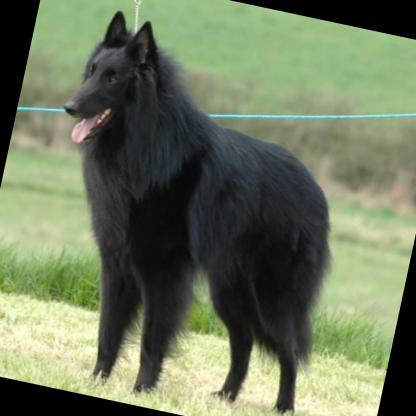groenendael: (7, 1, 370, 416)
